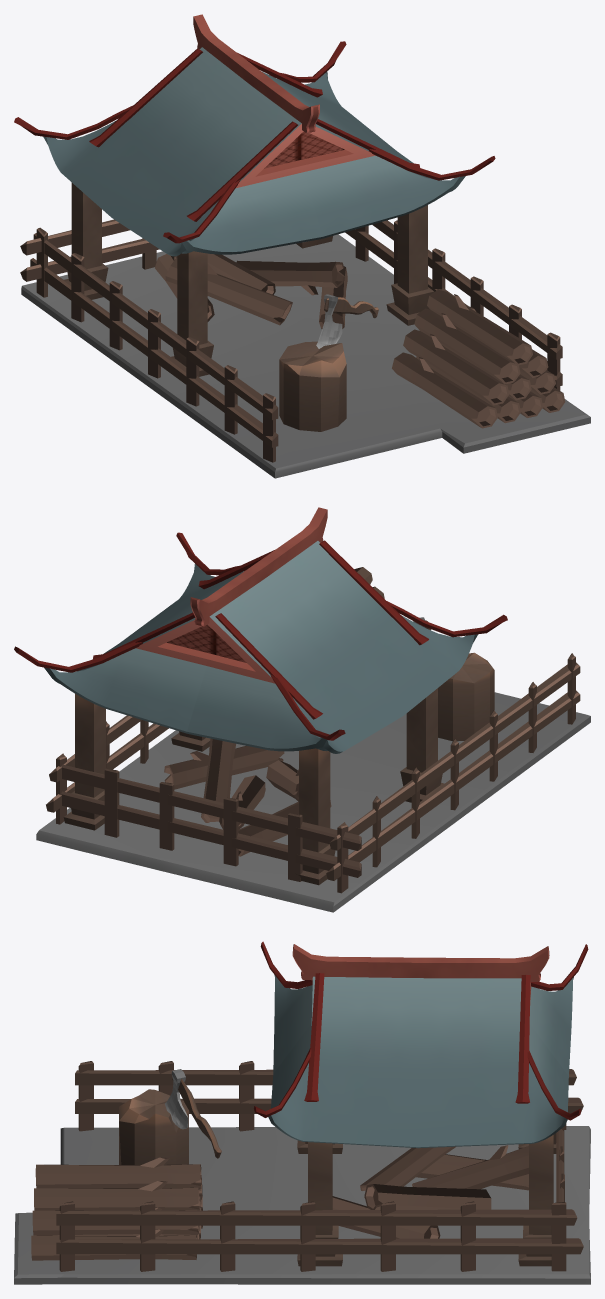
The model's file is sawmill_1lvl.fbx.
3 views of the same model, one above another, from view 1: azimuth 30°, elevation 25°; view 2: azimuth 150°, elevation 25°; view 3: azimuth 270°, elevation 25° (orthographic). The views are drawn at different scales.
Parts seen in each view (by area): view 1: sawmill_1lvl; view 2: sawmill_1lvl; view 3: sawmill_1lvl.
Boxes of the visible parts, bbox=[...] form: sawmill_1lvl: bbox=[14, 14, 590, 478]; sawmill_1lvl: bbox=[14, 507, 590, 912]; sawmill_1lvl: bbox=[14, 941, 590, 1284].
Size of the model in its own units: 4.53 by 3.33 by 6.47.
